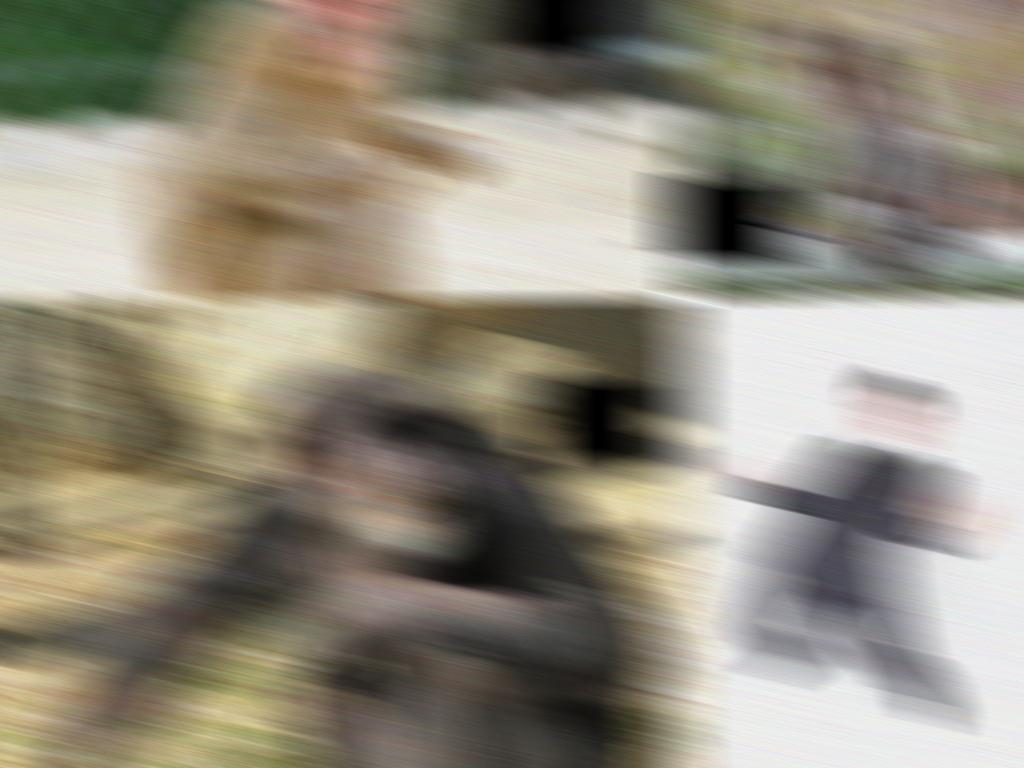Macaca fuscata: (146, 0, 490, 301), (756, 8, 976, 302)
chimpanzee: (20, 356, 661, 768)
human: (709, 369, 970, 731)
